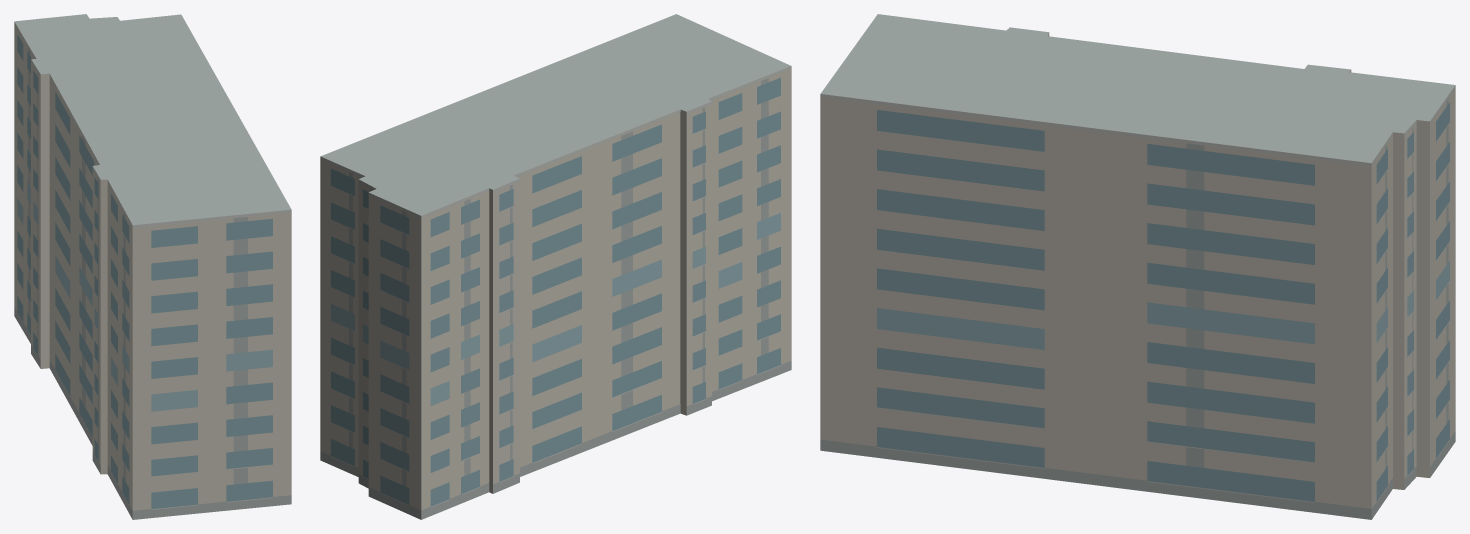
Rendered from survey-upis-32950142.glb.
3 views of the same model, side by side, from view 1: azimuth 30°, elevation 25°; view 2: azimuth 150°, elevation 25°; view 3: azimuth 270°, elevation 25° (orthographic). The views are drawn at different scales.
Parts seen in each view (by area): view 1: survey-upis-32950142.tmp; view 2: survey-upis-32950142.tmp; view 3: survey-upis-32950142.tmp.
Boxes of the visible parts, x1,y1,x2,y2 form: survey-upis-32950142.tmp: (14,14,291,519); survey-upis-32950142.tmp: (320,14,791,519); survey-upis-32950142.tmp: (820,14,1455,519).
Bounding box in the file's own units: 22.52 × 25.1 × 40.51.
